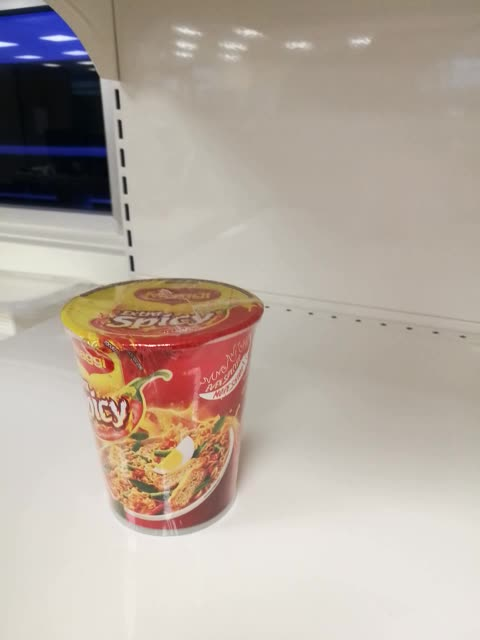maggi: (58, 278, 265, 538)
